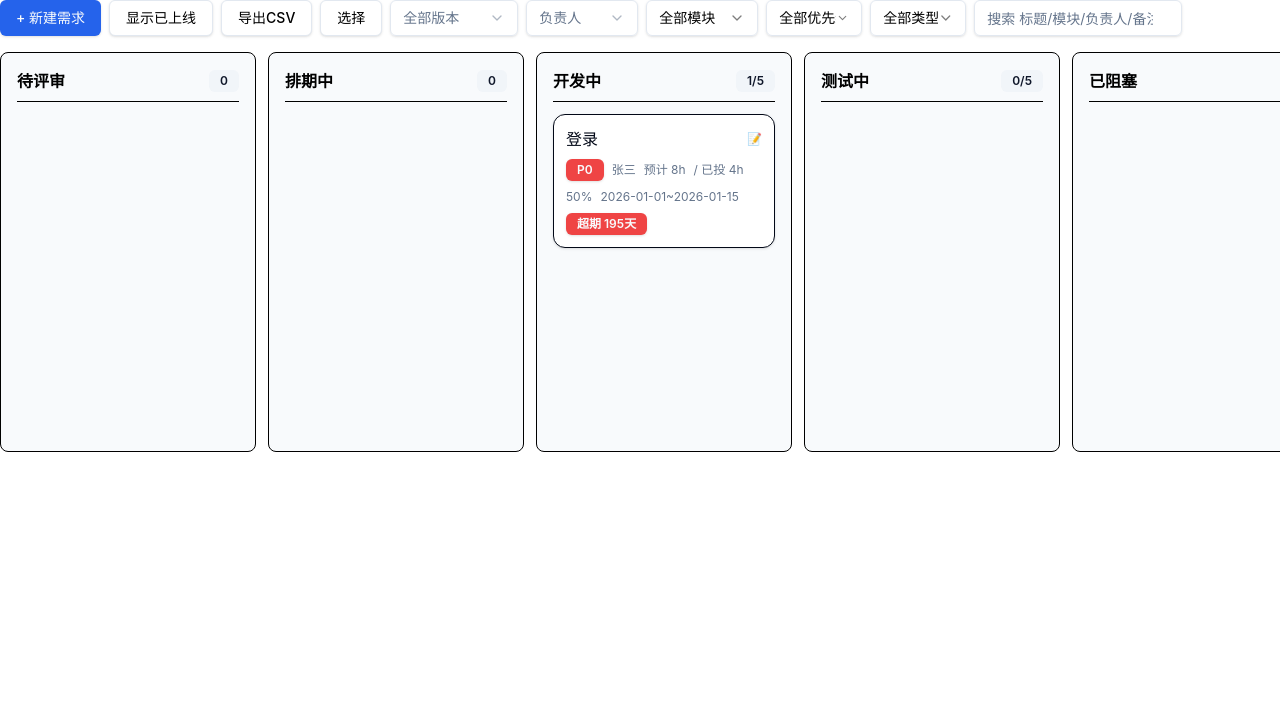
Board › opens edit form on double-click
Step 1. Double-click the text "登录" → (582, 139), box [566,127,598,151]
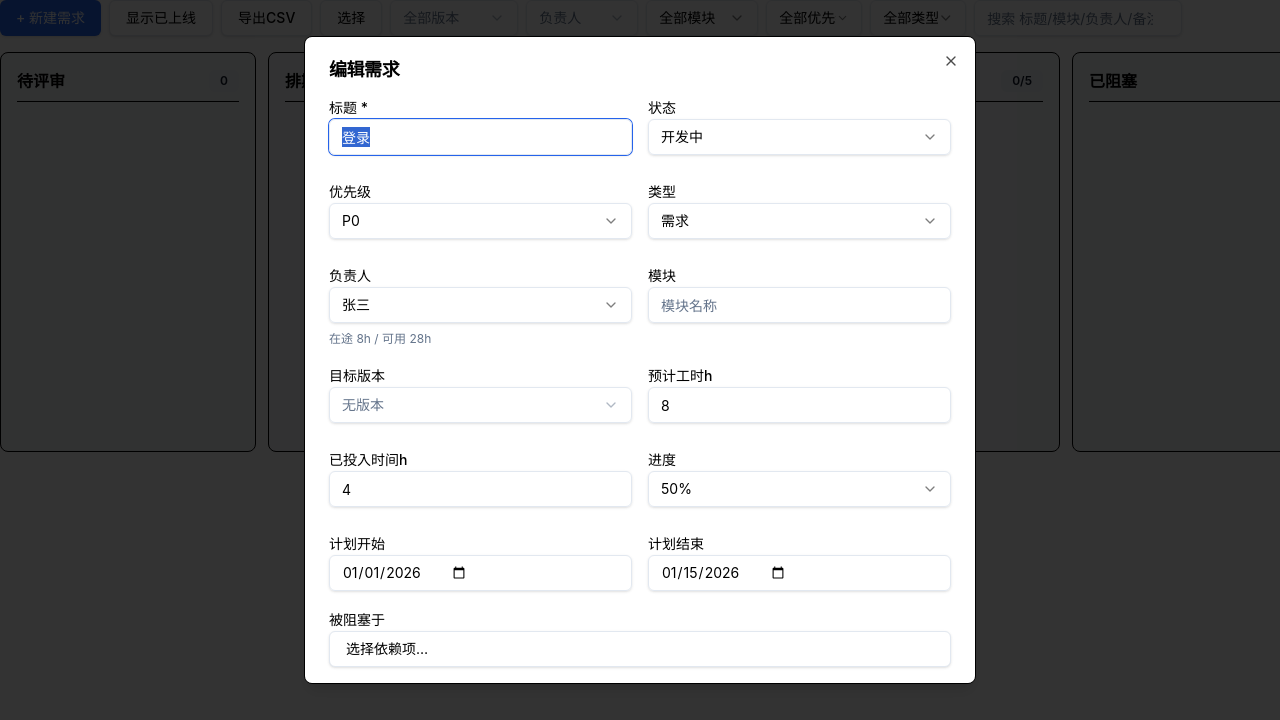
Now the field showing "登录" is shown, box [329,119,632,155]
Now the heading "编辑需求" is shown, box [329,59,399,80]
Now the text "已投入时间h" is shown, box [329,451,407,468]
